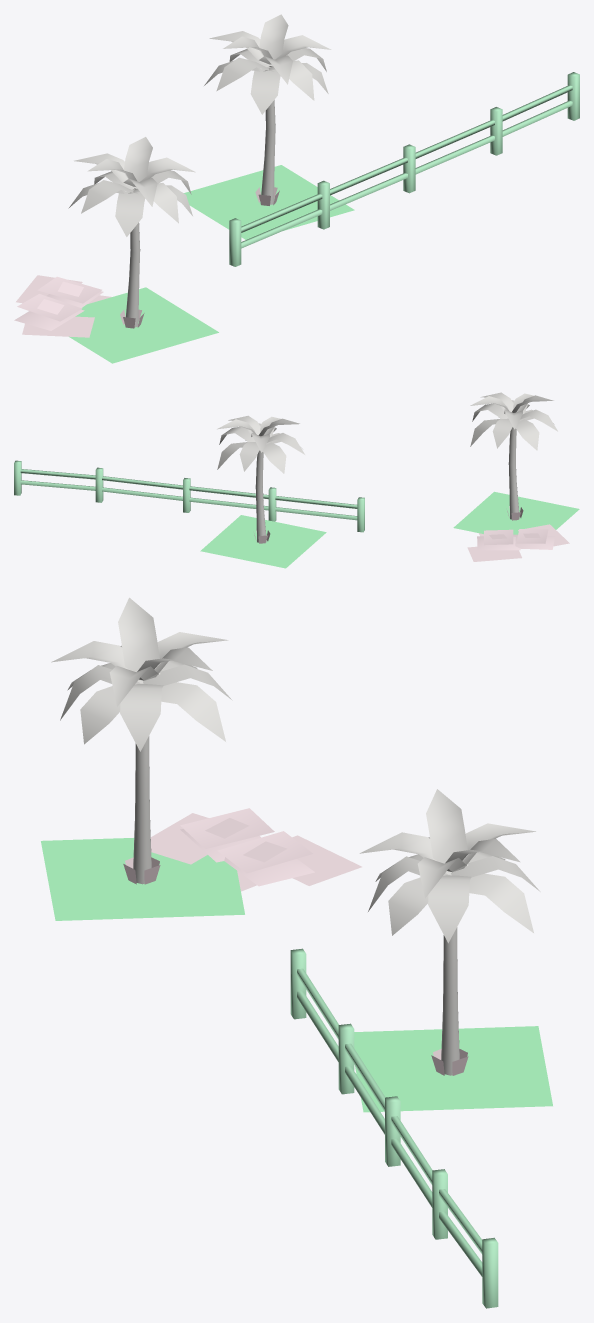
3 renders of one model, top to bottom at view 1: azimuth 30°, elevation 25°; view 2: azimuth 150°, elevation 25°; view 3: azimuth 270°, elevation 25°, orthographic. The views are drawn at different scales.
Visible parts, largest first — view 1: map0; view 2: map0; view 3: map0.
Part boxes in pixels (x1,y1,x2,y2): map0: [14, 14, 579, 363]; map0: [14, 392, 579, 568]; map0: [41, 597, 552, 1308].
Size of the model in its own units: 1750 by 473 by 807.
